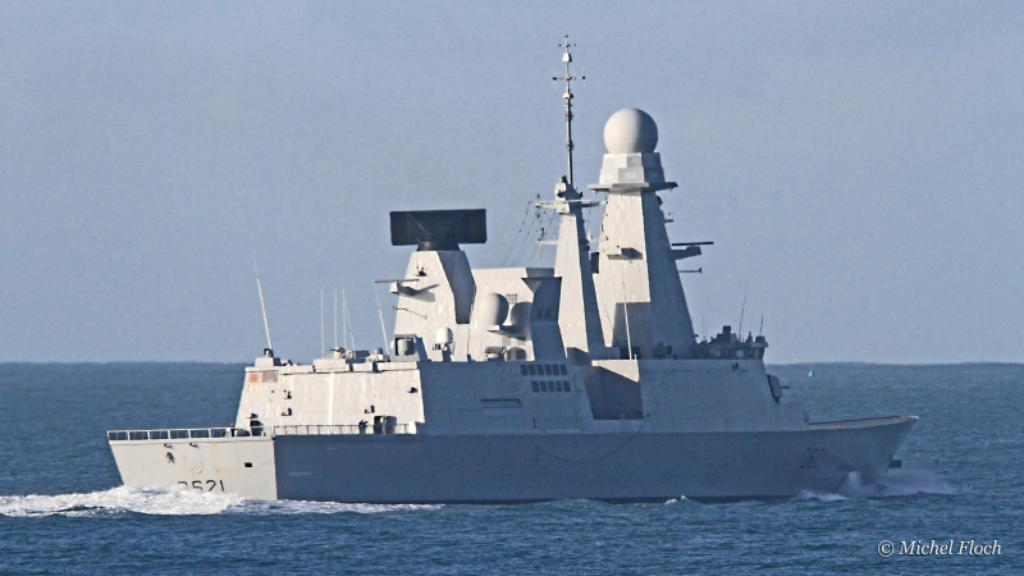Warship: (106, 31, 924, 508)
